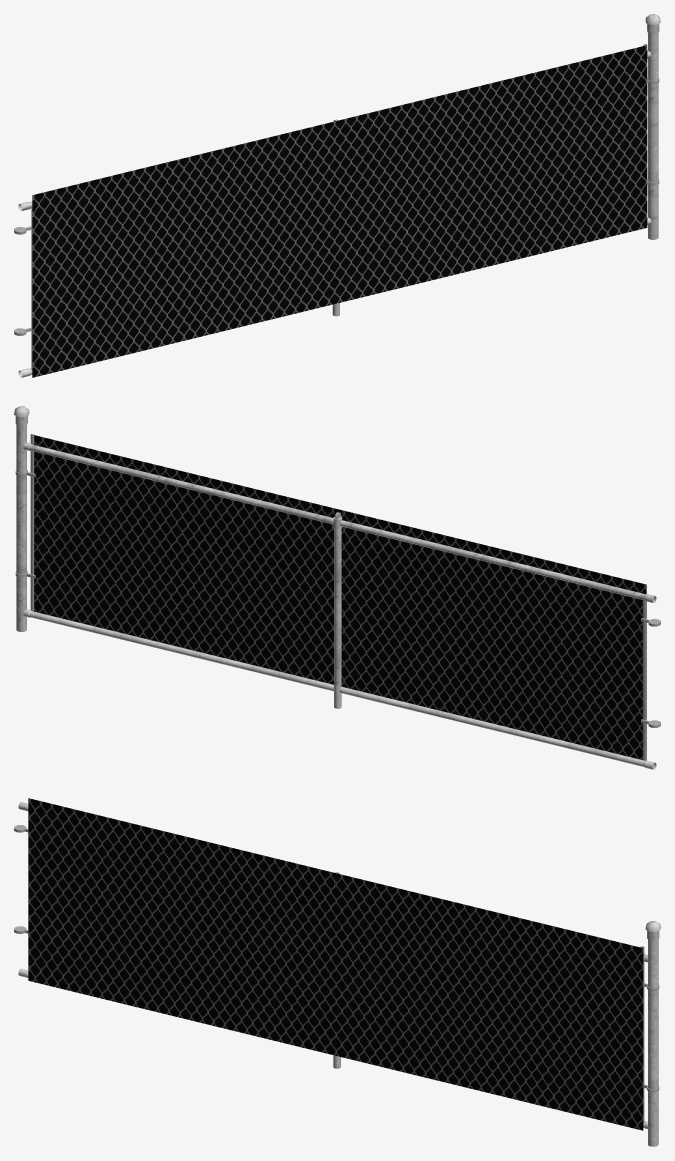
Rendered from ChainlinkFence_Short_A.fbx.
The picture shows the model from 3 angles, top to bottom: view 1: azimuth 30°, elevation 25°; view 2: azimuth 150°, elevation 25°; view 3: azimuth 330°, elevation 25°; orthographic projection.
Visible parts, largest first — view 1: ChainlinkFence_Short_A_LOD0; view 2: ChainlinkFence_Short_A_LOD0; view 3: ChainlinkFence_Short_A_LOD0.
Part boxes in pixels (box(x1,y1,x2,y2)): ChainlinkFence_Short_A_LOD0: box(14, 14, 660, 377); ChainlinkFence_Short_A_LOD0: box(14, 406, 660, 769); ChainlinkFence_Short_A_LOD0: box(14, 798, 660, 1146).
Size of what is drawn, in the model's own units: 510 by 168 by 10.99.
